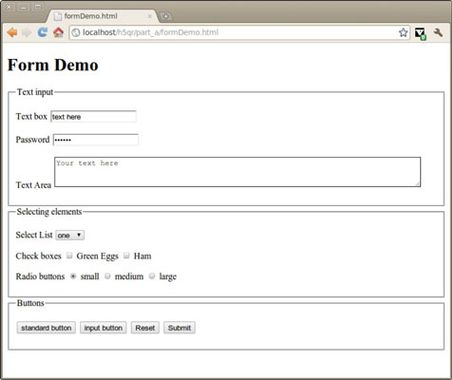_form_: (11, 1, 427, 380)
button: (15, 319, 78, 334), (79, 320, 128, 335), (163, 320, 196, 335), (130, 320, 159, 335)
field: (52, 156, 425, 189), (48, 109, 139, 124), (51, 133, 141, 147)
